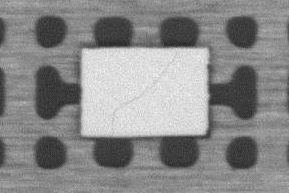DIE_CRACK: (110, 51, 179, 135)
